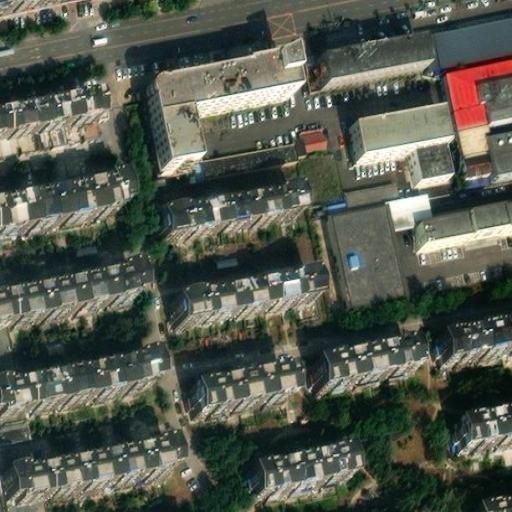building: (146, 49, 296, 164), (3, 430, 182, 496), (0, 345, 160, 409), (0, 260, 143, 318), (331, 194, 406, 303), (170, 266, 319, 319), (0, 162, 122, 225), (157, 183, 298, 233), (310, 336, 419, 386), (189, 361, 295, 411), (248, 443, 351, 493), (351, 112, 447, 165), (319, 34, 426, 81), (445, 48, 512, 122), (0, 80, 97, 129), (407, 204, 512, 246), (192, 141, 298, 182), (0, 111, 101, 150), (438, 11, 512, 62), (438, 314, 512, 359), (455, 405, 512, 446), (457, 116, 496, 172), (386, 186, 434, 223), (342, 175, 402, 202), (409, 148, 447, 182), (489, 122, 512, 166), (296, 125, 328, 155), (471, 494, 512, 512)
